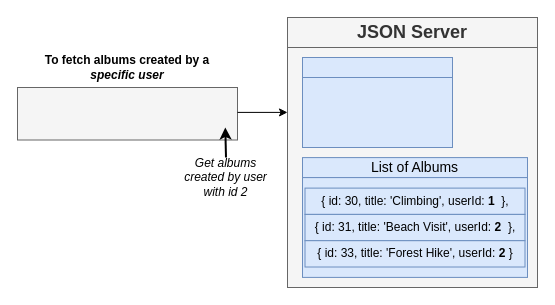
Some shapes in this 555 by 305 pixel diagram are drawn without their labels. Each missing label, with the centre of its shape:
"[ { id: 1, name: 'Myra' }, { id: 2, name: 'Ervin' } ]" belongs at (x=377, y=112).
"GET http://localhost:3005/albums?userId=2" belongs at (x=127, y=113).
"List of Users" belongs at (x=377, y=67).
